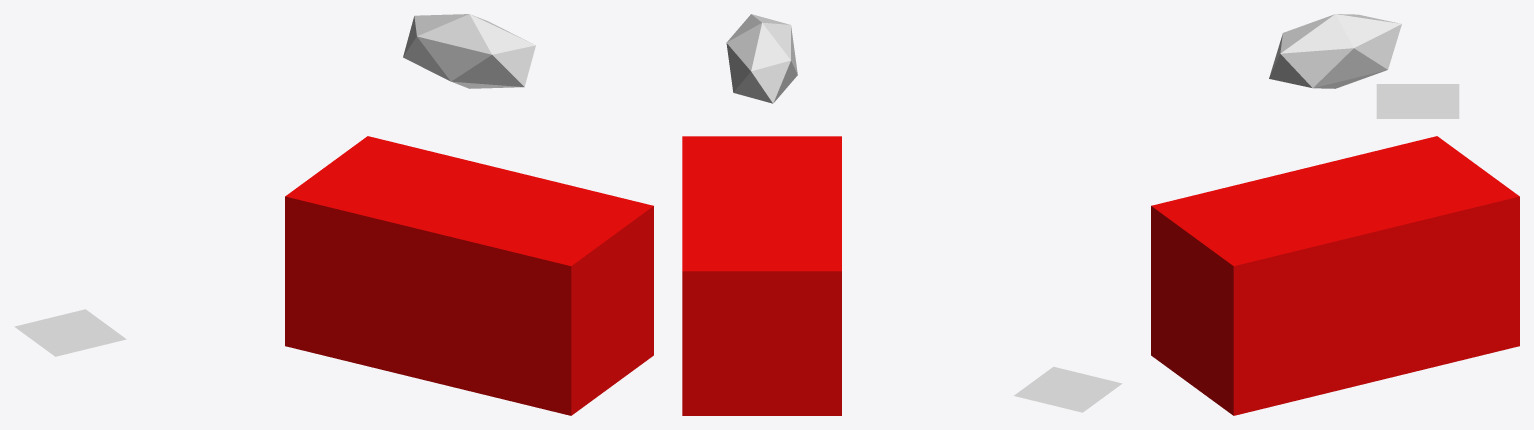
Rendered from blender-scene-yup.fbx.
3 views of the same model, side by side, from view 1: azimuth 30°, elevation 25°; view 2: azimuth 150°, elevation 25°; view 3: azimuth 270°, elevation 25° (orthographic). The views are drawn at different scales.
Visible parts, largest first — view 1: Box, Ball, Floor; view 2: Box, Ball, Floor; view 3: Box, Ball, Floor.
Boxes of the visible parts, bbox=[...] form: Box: bbox=[285, 136, 653, 415]; Ball: bbox=[403, 14, 535, 88]; Floor: bbox=[14, 309, 126, 356]; Box: bbox=[682, 136, 841, 415]; Ball: bbox=[726, 14, 797, 103]; Floor: bbox=[1014, 366, 1122, 412]; Box: bbox=[1151, 136, 1519, 415]; Ball: bbox=[1269, 14, 1401, 88]; Floor: bbox=[1376, 84, 1459, 118].
Size of the model in its own units: 737 by 450 by 446.
